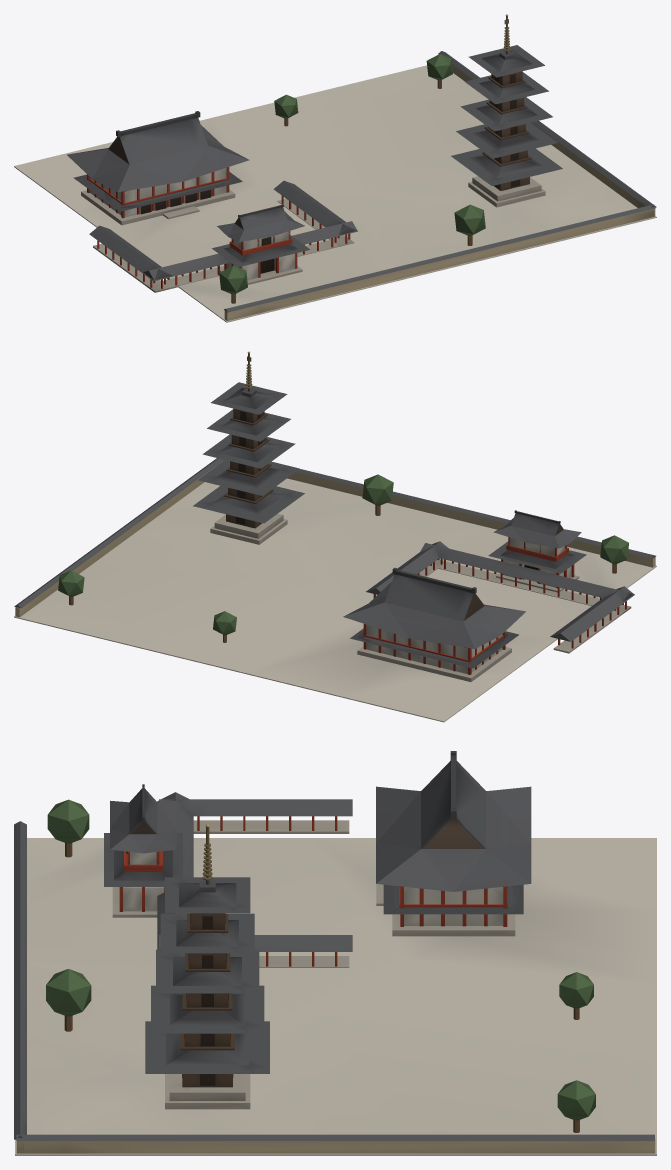
The model's file is toji.glb.
The picture shows the model from 3 angles, top to bottom: view 1: azimuth 30°, elevation 25°; view 2: azimuth 150°, elevation 25°; view 3: azimuth 270°, elevation 25°; orthographic projection. The views are drawn at different scales.
Visible parts, largest first — view 1: p0_grounds, p2_pagoda, p1_halls; view 2: p0_grounds, p2_pagoda, p1_halls; view 3: p0_grounds, p2_pagoda, p1_halls.
Boxes of the visible parts, x1,y1,x2,y2 form: p0_grounds: (14, 51, 656, 322); p2_pagoda: (67, 14, 562, 267); p1_halls: (81, 54, 485, 303); p0_grounds: (14, 458, 656, 722); p2_pagoda: (193, 351, 586, 668); p1_halls: (58, 474, 634, 681); p0_grounds: (14, 821, 656, 1155); p2_pagoda: (104, 751, 531, 1100); p1_halls: (46, 792, 595, 1132).
Size of the model in its own units: 149 by 55.39 by 120.
